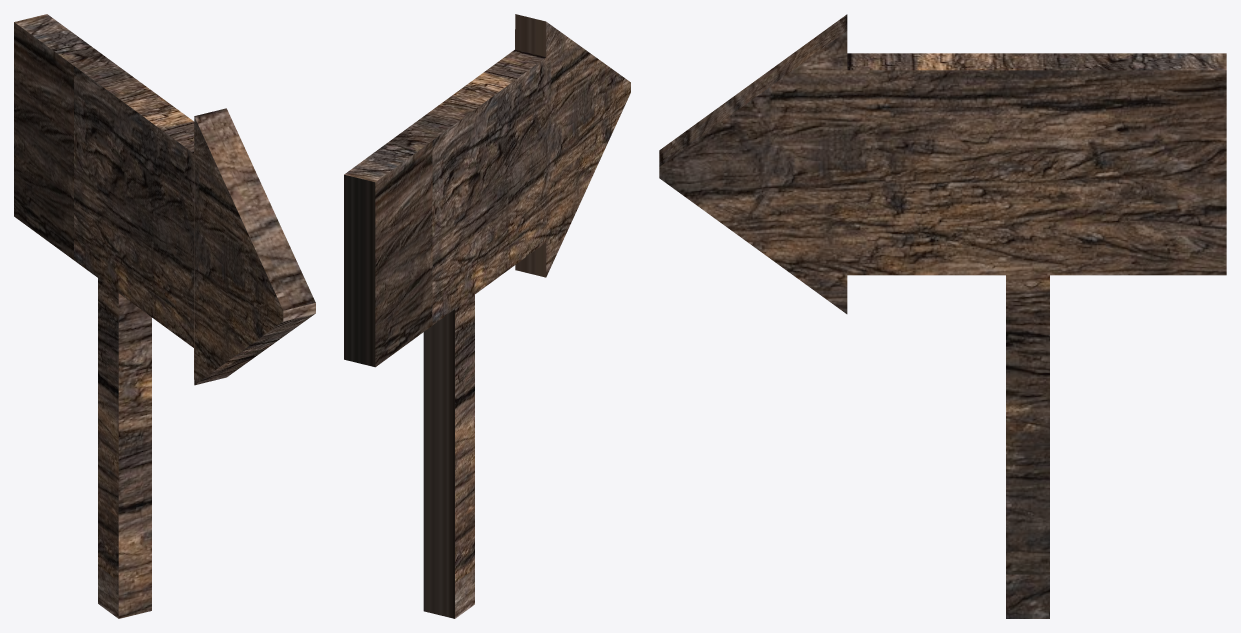
Rendered from Sign.fbx.
3 views of the same model, side by side, from view 1: azimuth 30°, elevation 25°; view 2: azimuth 150°, elevation 25°; view 3: azimuth 270°, elevation 25° (orthographic). The views are drawn at different scales.
Parts seen in each view (by area): view 1: Cube; view 2: Cube; view 3: Cube.
Part boxes in pixels (<box>): Cube: <box>14,14,315,618</box>; Cube: <box>344,14,630,618</box>; Cube: <box>659,14,1226,618</box>.
Bounding box in the file's own units: 0.3562 × 5.73 × 5.01.
